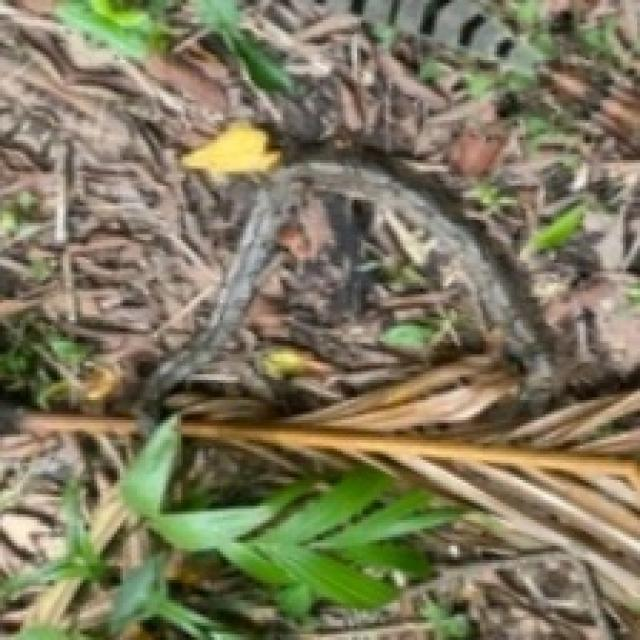reticulated python: (136, 161, 565, 429)
